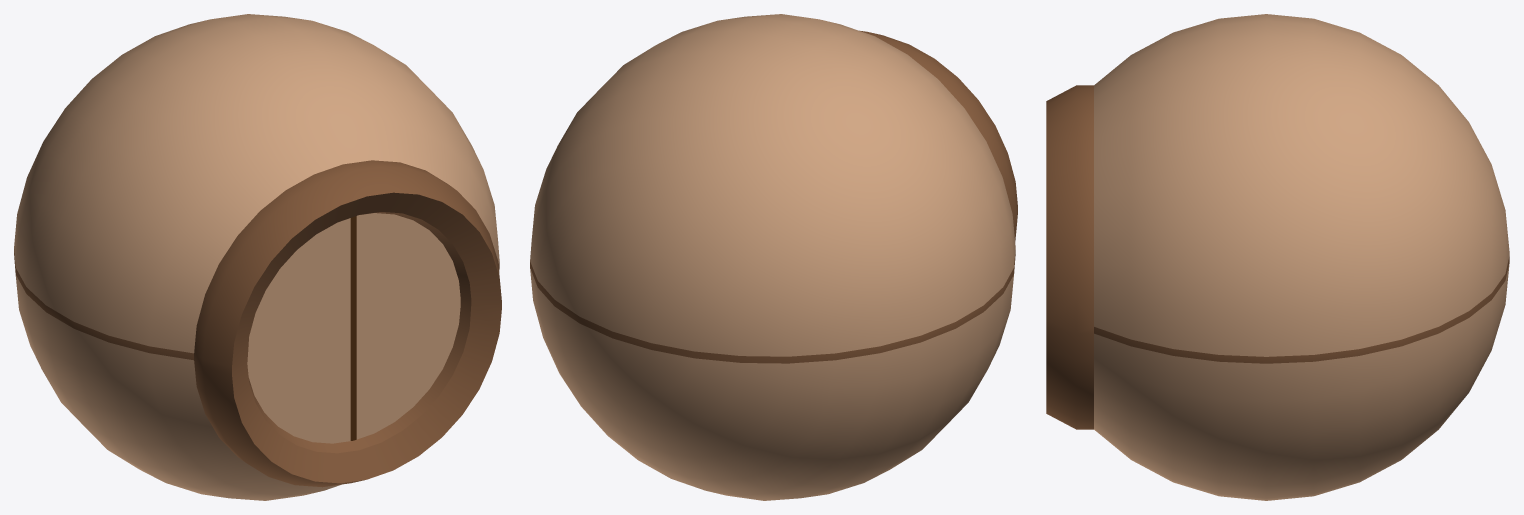
The model's file is n_house_single.glb.
3 views of the same model, side by side, from view 1: azimuth 30°, elevation 25°; view 2: azimuth 150°, elevation 25°; view 3: azimuth 270°, elevation 25° (orthographic).
Parts seen in each view (by area): view 1: House_Single; view 2: House_Single; view 3: House_Single.
Part boxes in pixels (x1=…): House_Single: x1=14, y1=14, x2=501, y2=500; House_Single: x1=530, y1=14, x2=1017, y2=500; House_Single: x1=1046, y1=14, x2=1509, y2=500.
Bounding box in the file's own units: 3.99 × 4 × 3.8.
1 material, 1 textured.
